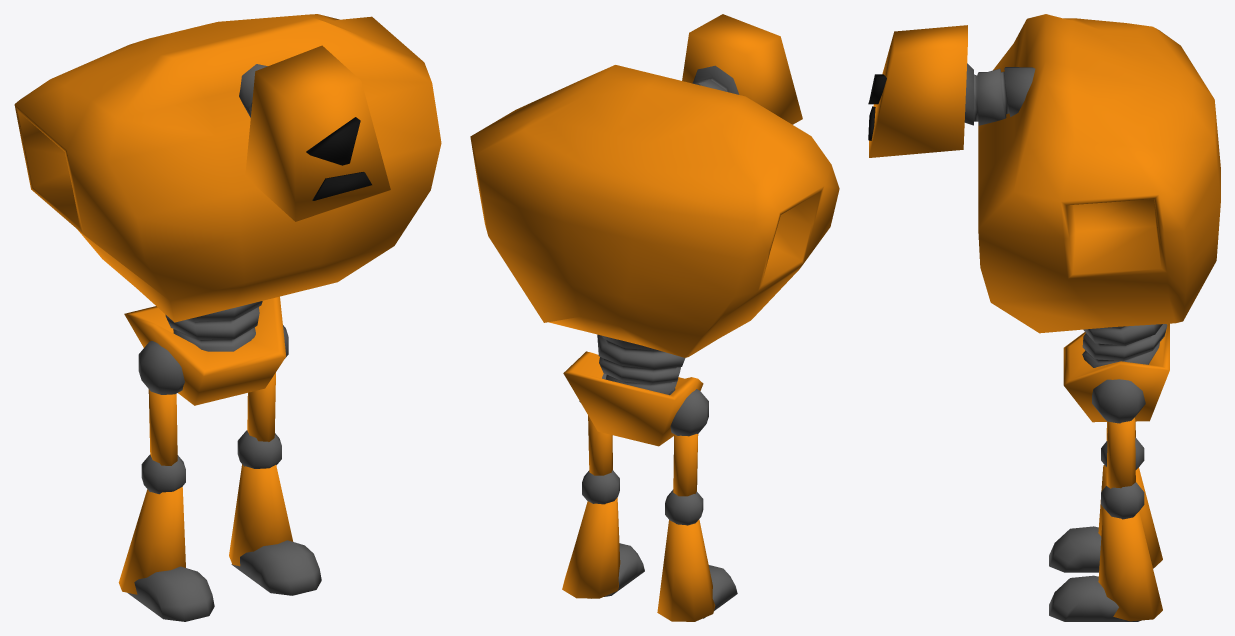
Rendered from Enemy_Process_Yellow.fbx.
The picture shows the model from 3 angles, left to right: view 1: azimuth 30°, elevation 25°; view 2: azimuth 150°, elevation 25°; view 3: azimuth 270°, elevation 25°; orthographic projection. The views are drawn at different scales.
Parts seen in each view (by area): view 1: Sphere.003; view 2: Sphere.003; view 3: Sphere.003.
Part boxes in pixels (box(x1,y1,x2,y2)): Sphere.003: box(14, 14, 441, 621); Sphere.003: box(470, 14, 839, 621); Sphere.003: box(868, 14, 1220, 621).
Size of the model in its own units: 993 by 1553 by 900.
